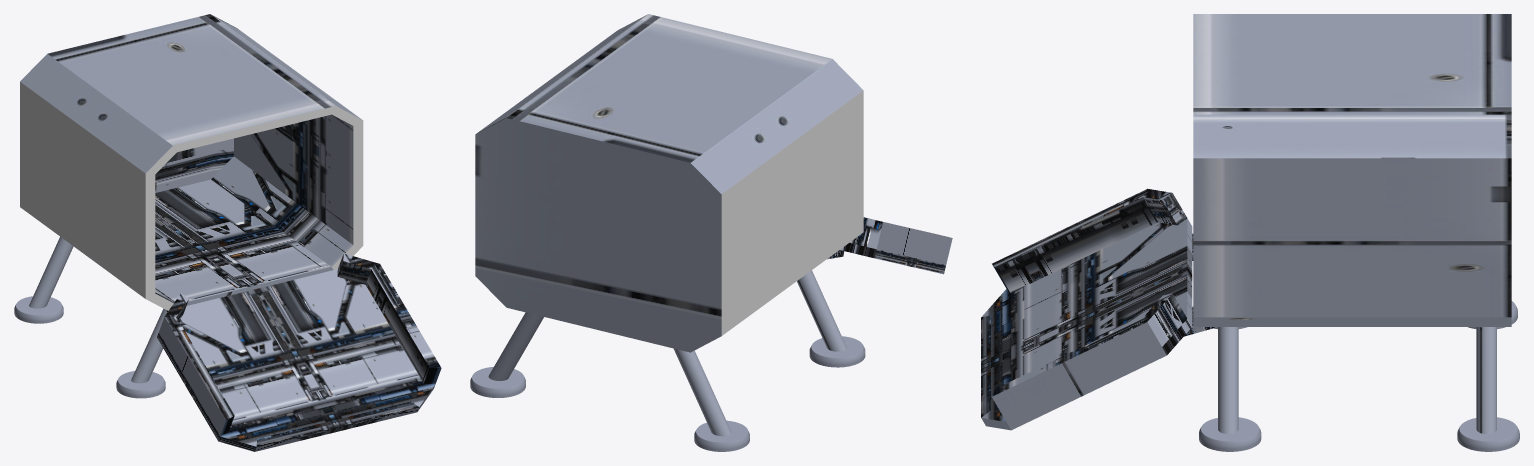
Rendered from Стыковка.fbx.
3 renders of one model, left to right at view 1: azimuth 30°, elevation 25°; view 2: azimuth 150°, elevation 25°; view 3: azimuth 270°, elevation 25°, orthographic. The views are drawn at different scales.
Parts seen in each view (by area): view 1: Cube, Plane, Cylinder.003, Circle.001, Circle.003, Cylinder.001; view 2: Cube, Plane, Cylinder.003, Cylinder.001, Cylinder.002, Circle.001, Circle.002, Circle.003; view 3: Cube, Plane, Cylinder, Cylinder.002, Circle.002, Circle.
Boxes of the visible parts, x1,y1,x2,y2 form: Cube: (20,14,363,310); Plane: (157,253,441,451); Cylinder.003: (29,236,73,308); Circle.001: (116,371,165,398); Circle.003: (14,296,63,323); Cylinder.001: (131,308,167,383); Cube: (475,14,863,352); Plane: (840,217,952,274); Cylinder.003: (673,348,731,436); Cylinder.001: (797,270,846,351); Cylinder.002: (488,312,543,380); Circle.001: (809,336,865,367); Circle.002: (470,367,525,397); Circle.003: (694,420,749,451); Cube: (1193,14,1511,326); Plane: (981,188,1192,430); Cylinder: (1218,327,1238,433); Cylinder.002: (1476,327,1496,433); Circle.002: (1457,417,1519,451); Circle: (1199,417,1261,451).
Size of the model in its own units: 474 by 468 by 727.
